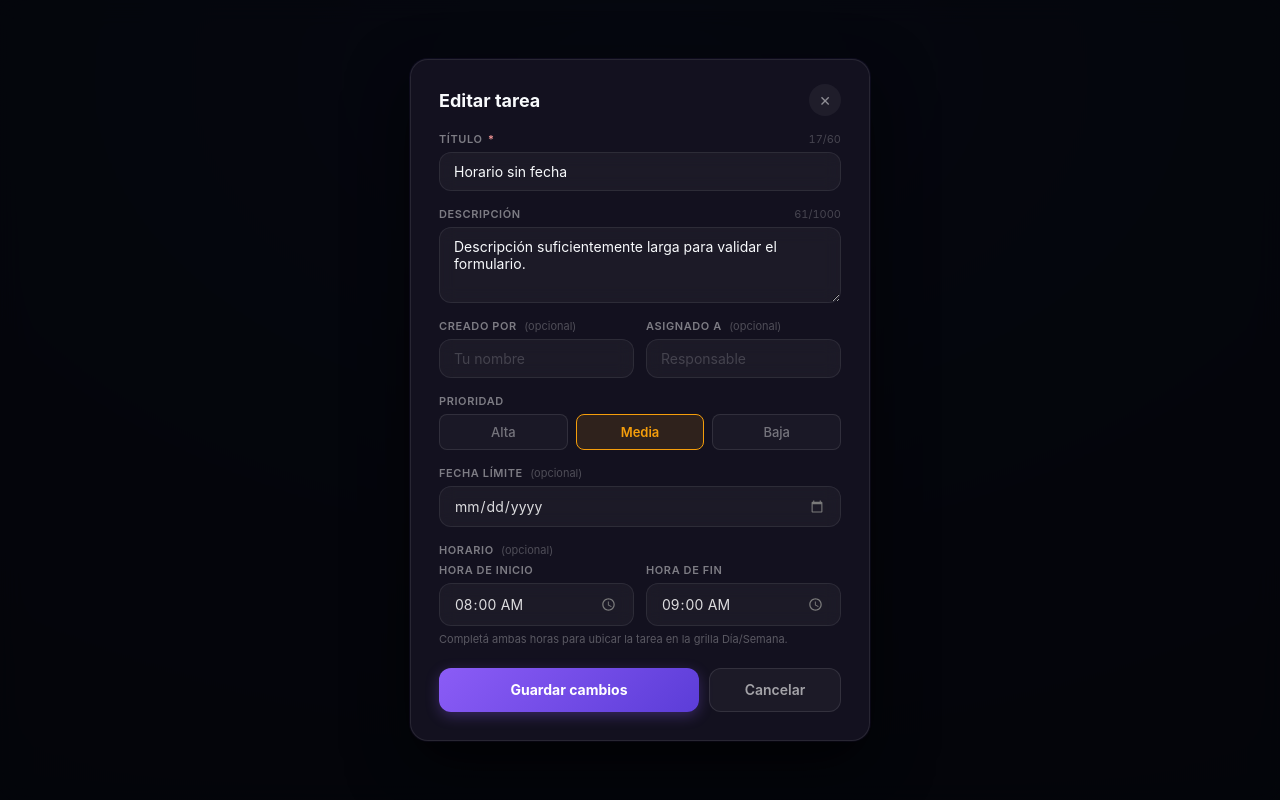
TaskForm › requiere fecha cuando se define un horario
What coordinates should you click on to do the following:
click the button "Guardar cambios"
I would click on:
 (569, 690)
Its box is left=439, top=668, right=699, bottom=712.
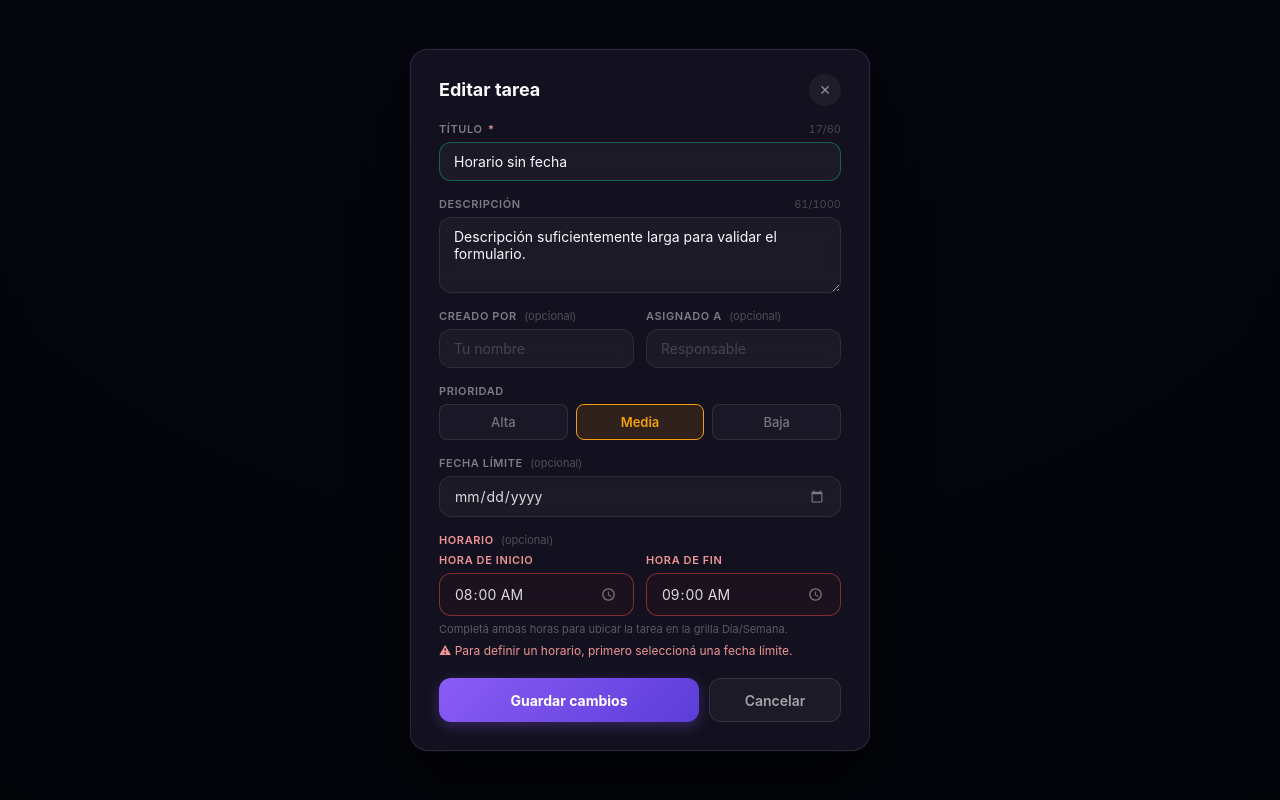
Check: the text "⚠ Para definir un horario, primero seleccioná una fecha límite." is shown, box left=439, top=643, right=841, bottom=658
